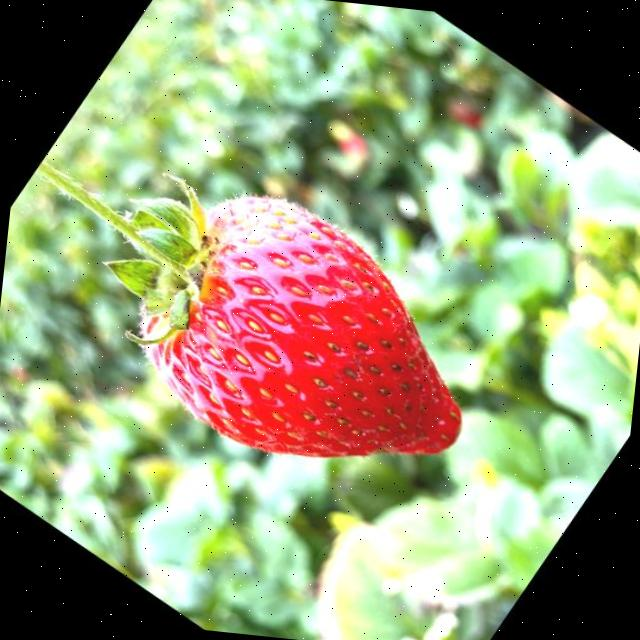strawberry: (41, 163, 460, 456)
